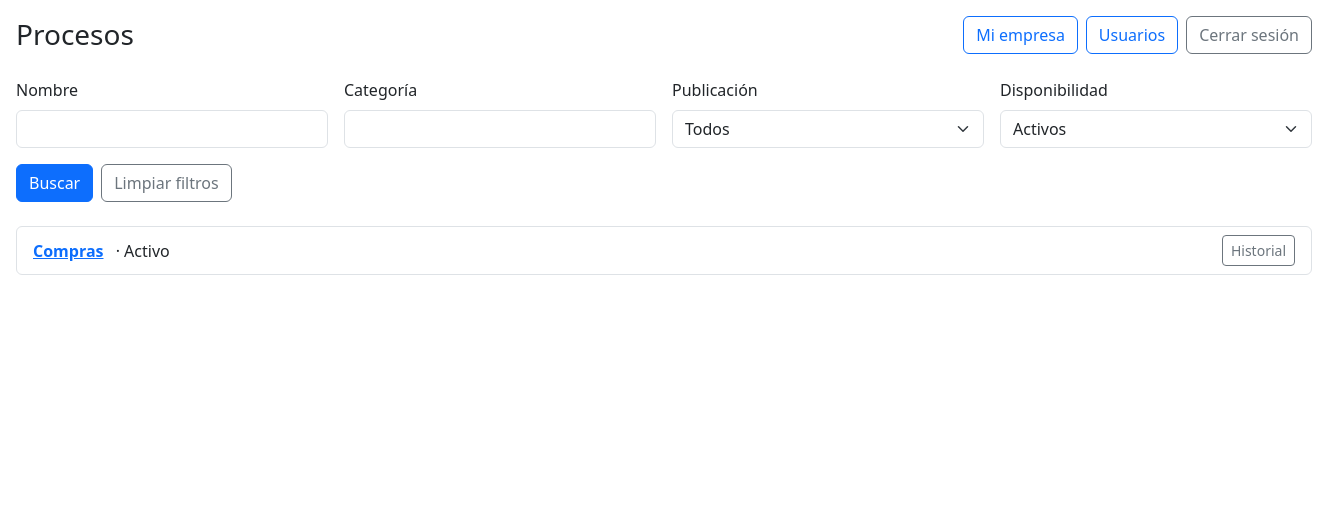
ProcesosListComponent › permite historial a lectura y oculta crear, editar y retirar
Expected: the text "Crear proceso" is not shown
Click the button "Historial" at (1258, 250), box [1222,235,1295,266]
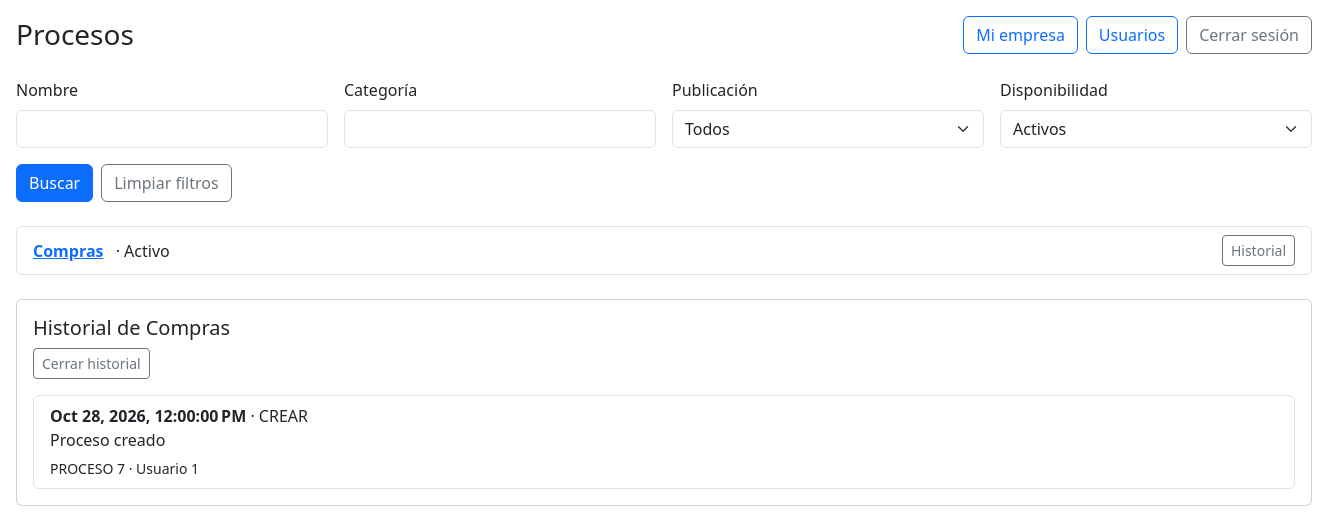
Expected: the text "Proceso creado" is shown, [50,429,165,451]
